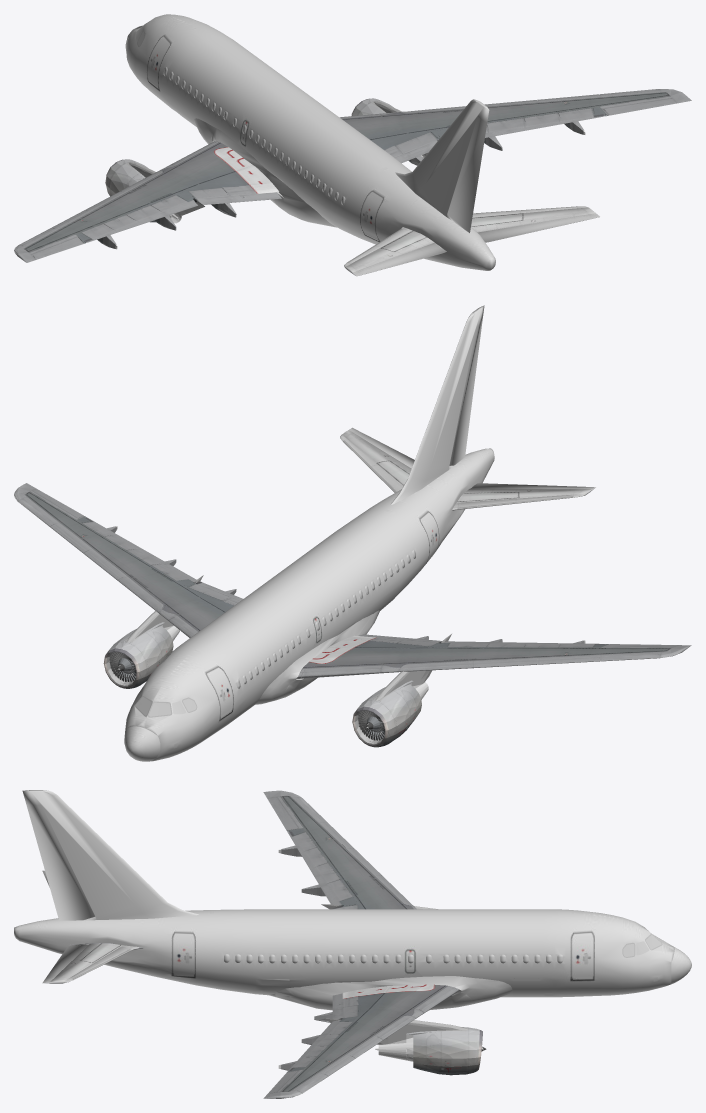
The picture shows the model from 3 angles, top to bottom: view 1: azimuth 30°, elevation 25°; view 2: azimuth 150°, elevation 25°; view 3: azimuth 270°, elevation 25°; orthographic projection. The views are drawn at different scales.
Parts seen in each view (by area): view 1: Fuselage, Wings, Vstab, Hstabs, Rudder, Belly, ElevatorR, Windows, ElevatorL, FlapL1, FlapL2, DoorL3 (+6 smaller); view 2: Fuselage, Wings, Vstab, Hstabs, Belly, Rudder, Windows, Intake, Intake_001, Nacelle, Nacelle_001, CockpitWindows (+2 smaller); view 3: Fuselage, Wings, Vstab, Belly, Rudder, Windows, Hstabs, Nacelle_001, EngineR, DoorR1, DoorR3, Pylon_001 (+5 smaller).
Boxes of the visible parts, x1,y1,x2,y2 form: Fuselage: (125,14,495,270); Wings: (18,89,672,254); Vstab: (395,99,489,222); Hstabs: (344,206,595,273); Rudder: (447,117,487,232); Belly: (194,118,336,227); ElevatorR: (477,213,599,242); Windows: (163,67,345,205); ElevatorL: (352,242,446,276); FlapL1: (193,191,281,204); FlapL2: (84,199,197,242); DoorL3: (361,189,384,239); Fuselage: (124,448,494,761); Wings: (18,490,672,678); Vstab: (390,305,484,504); Hstabs: (340,430,592,510); Belly: (255,610,379,704); Rudder: (449,321,482,465); Windows: (236,550,415,688); Intake: (352,699,396,747); Intake_001: (103,641,148,688); Nacelle: (363,689,411,743); Nacelle_001: (115,630,163,684); CockpitWindows: (134,688,196,716); Fuselage: (14,909,691,997); Wings: (276,796,459,1092); Vstab: (22,790,198,920); Belly: (273,976,512,1010); Rudder: (26,804,95,920); Windows: (224,954,563,963); Hstabs: (50,943,143,983); Nacelle_001: (439,1027,466,1075); EngineR: (406,1030,438,1073); DoorR1: (572,932,594,978); DoorR3: (173,932,194,976); Pylon_001: (324,1018,468,1044).
Size of the model in its own units: 33.91 by 11.72 by 31.71.
Materials: 27 (6 with a texture image).
